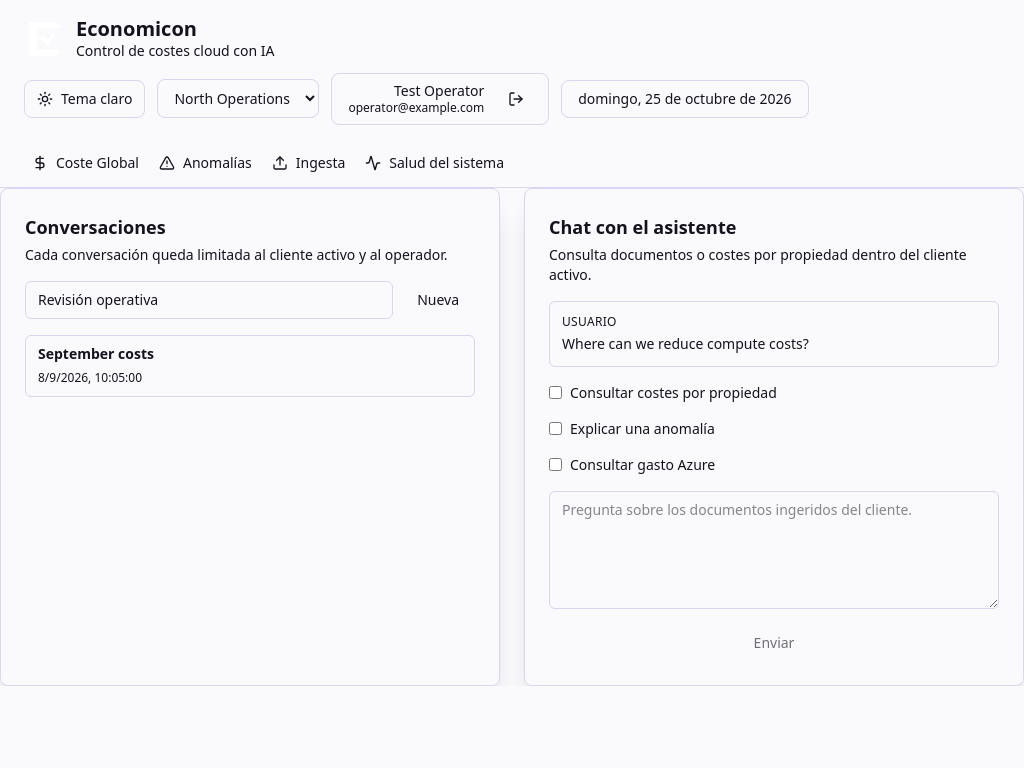
tenant changes isolate page state › resets conversation selection and drafts before requesting the next tenant's history
Expected: the text "Where can we reduce compute costs?" is shown, [562,334,809,352]
Replace the text in the field with placeholder "Título de la nueva conversación" with "North private title" at (209, 300), box [25,280,393,318]
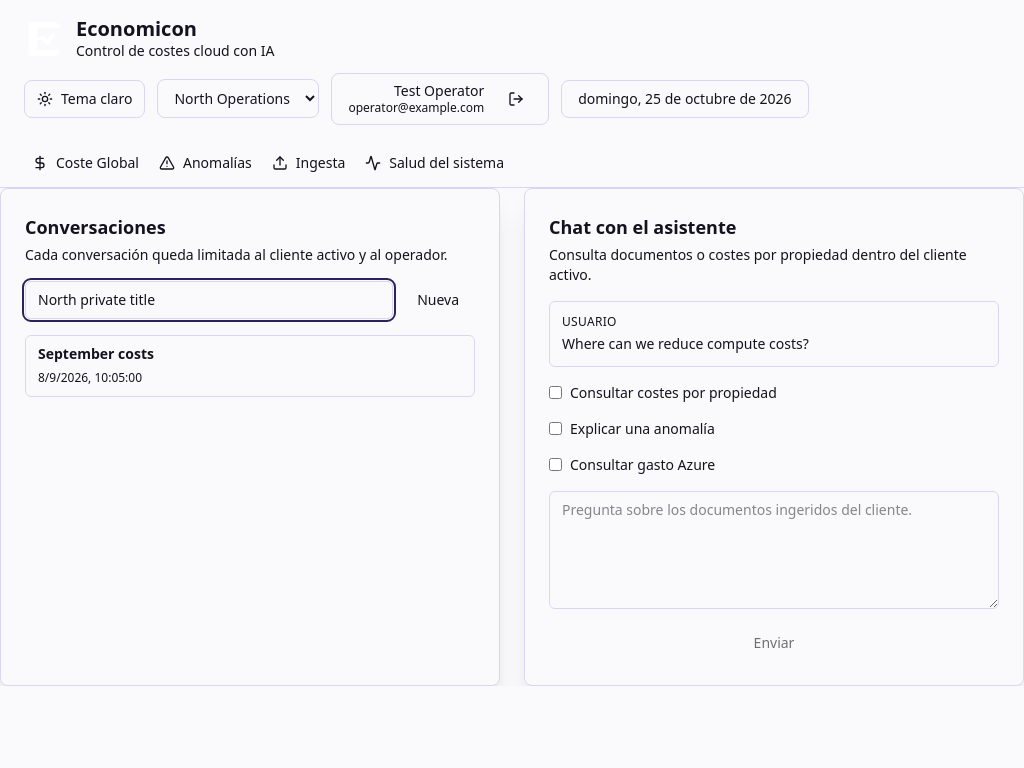
Type "North private draft" into the text box with placeholder "Pregunta sobre los documentos ingeridos del cliente." at (774, 550), box [549,490,999,608]
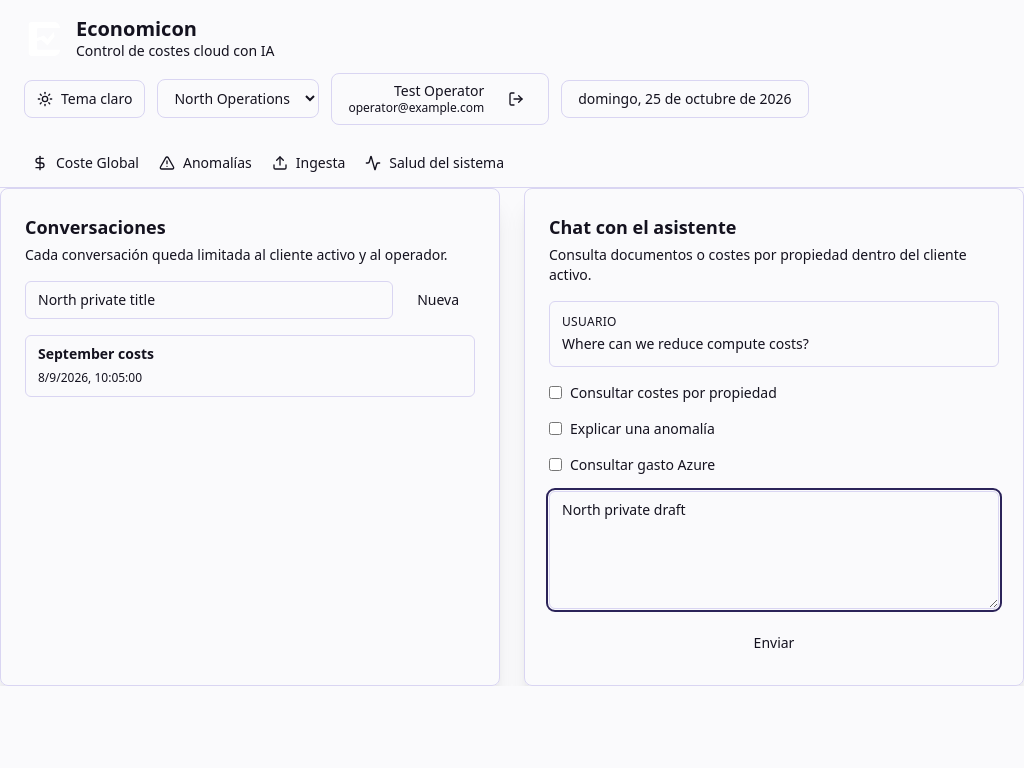
Select "South Operations" in the dropdown named "Ámbito de cliente" at (238, 99), box [158,79,320,118]
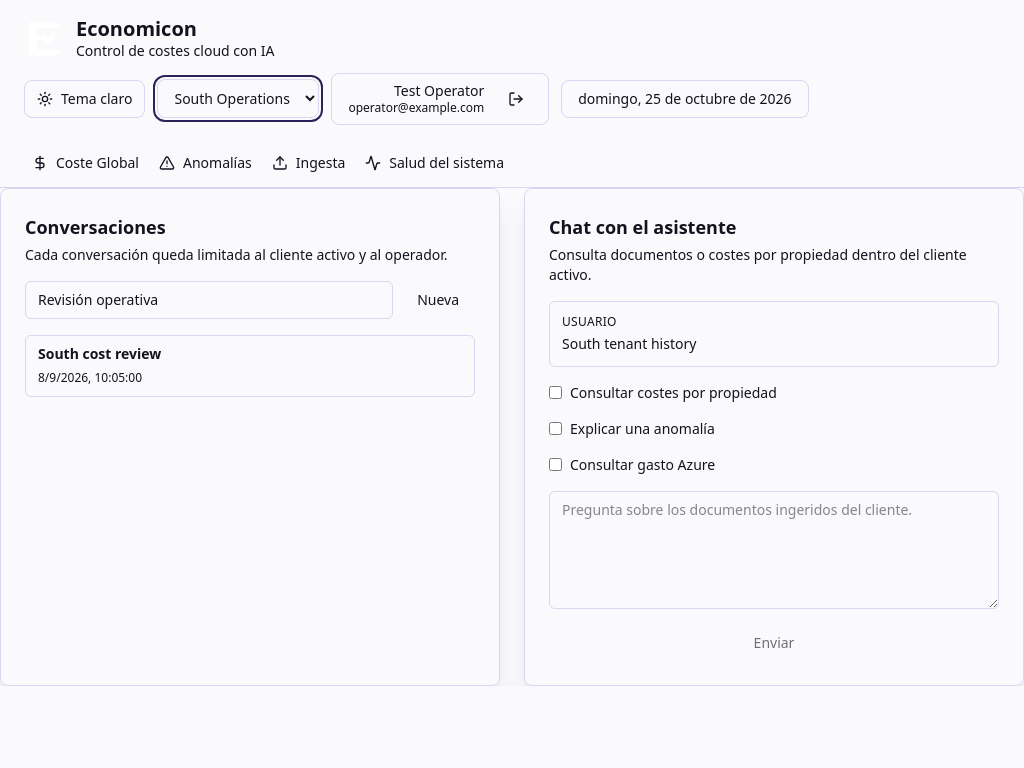
Now the text "Where can we reduce compute costs?" is gone
Now the field with placeholder "Título de la nueva conversación" holds "Revisión operativa", box [25,280,393,318]
Now the text "South tenant history" is shown, box [562,334,696,352]
